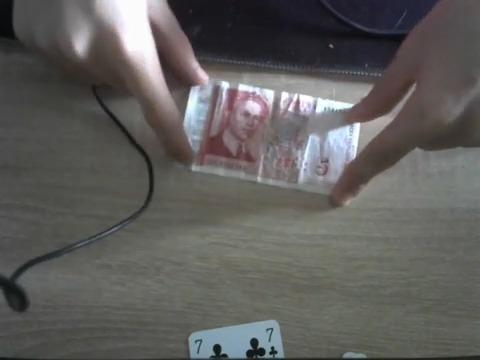5leva: (189, 80, 353, 192)
